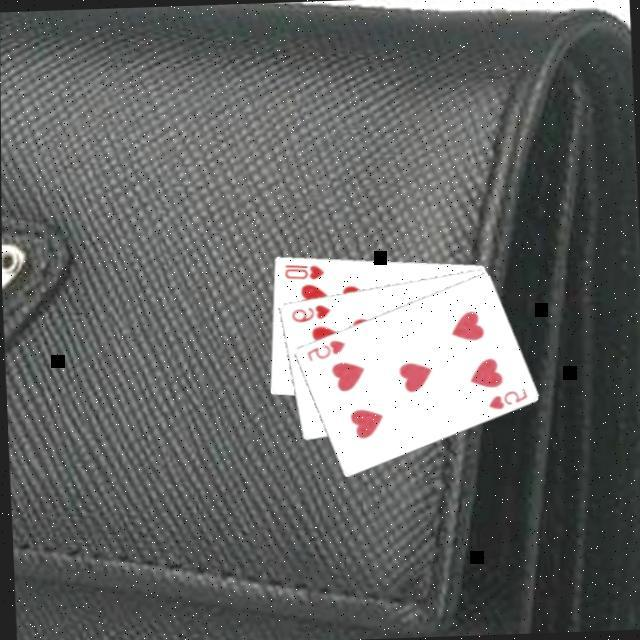10H: (279, 257, 326, 281)
5H: (302, 333, 348, 362), (484, 382, 530, 411)
9H: (287, 298, 333, 324)
